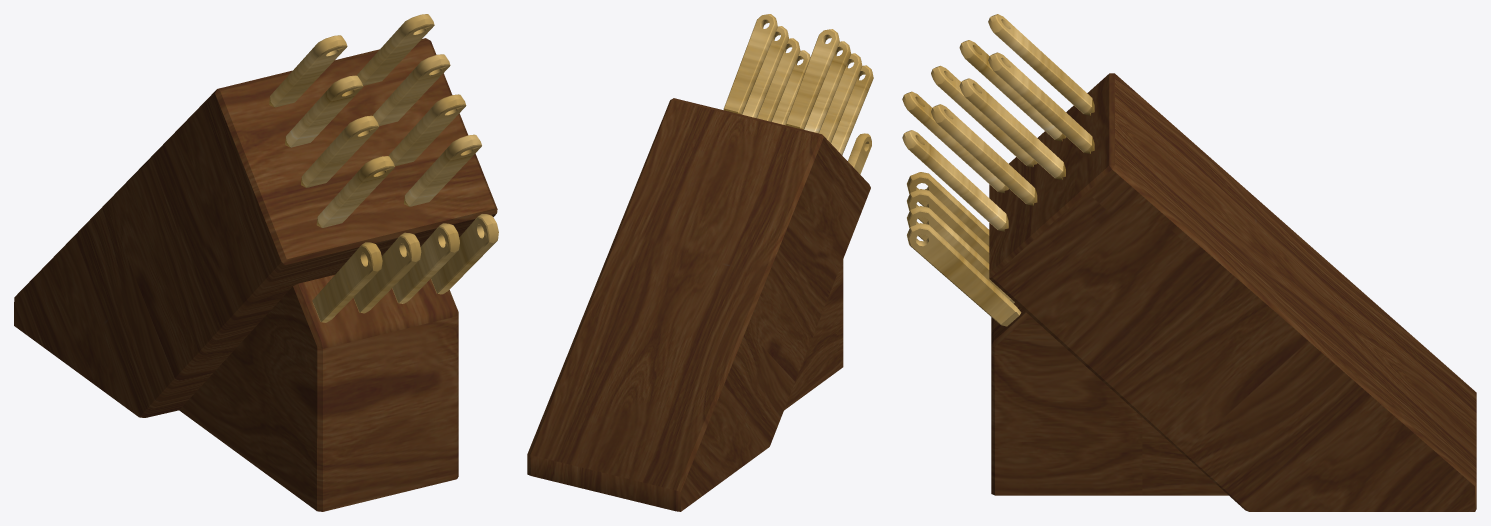
File: Kitchen_KnifeBlock.fbx
The picture shows the model from 3 angles, left to right: view 1: azimuth 30°, elevation 25°; view 2: azimuth 150°, elevation 25°; view 3: azimuth 270°, elevation 25°; orthographic projection. The views are drawn at different scales.
Parts seen in each view (by area): view 1: KnifeBlockUVd:polySurface181; view 2: KnifeBlockUVd:polySurface181; view 3: KnifeBlockUVd:polySurface181.
Part boxes in pixels (x1=…): KnifeBlockUVd:polySurface181: x1=14, y1=14, x2=498, y2=511; KnifeBlockUVd:polySurface181: x1=527, y1=14, x2=873, y2=511; KnifeBlockUVd:polySurface181: x1=902, y1=14, x2=1476, y2=511.
Bounding box in the file's own units: 22.3 × 46.47 × 56.87.
